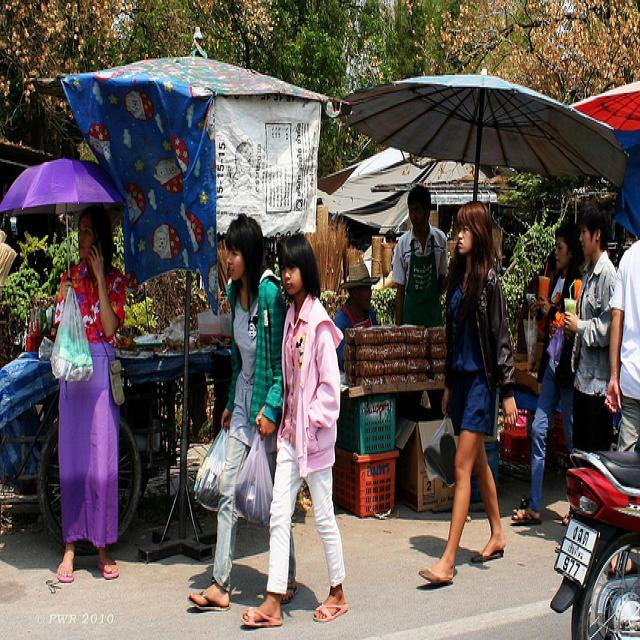motor: (551, 450, 638, 636)
